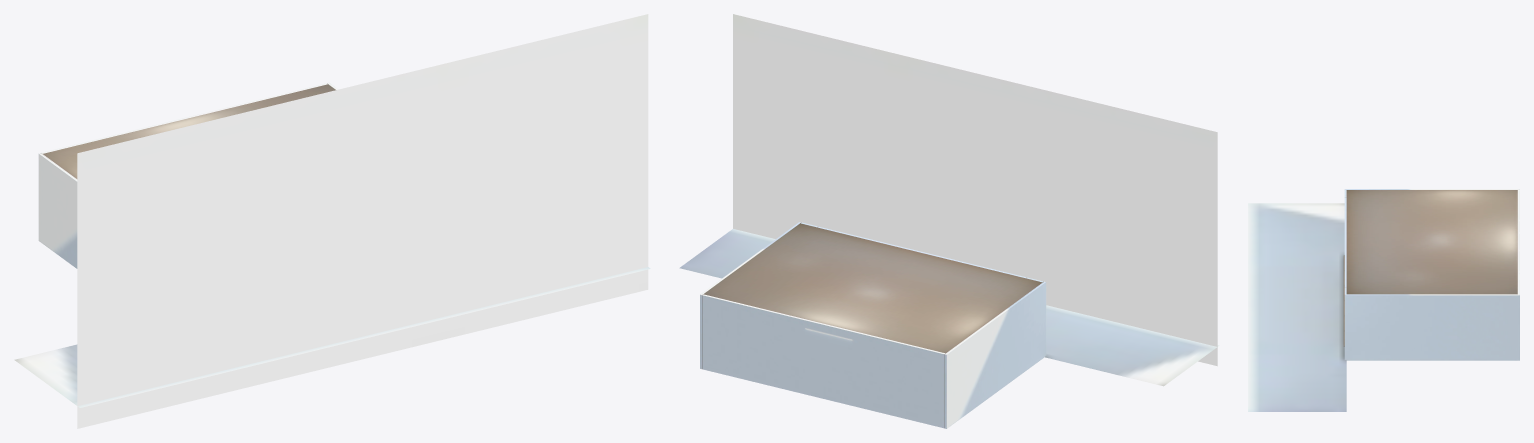
File: cafe.glb
3 renders of one model, left to right at view 1: azimuth 30°, elevation 25°; view 2: azimuth 150°, elevation 25°; view 3: azimuth 270°, elevation 25°, orthographic. The views are drawn at different scales.
Parts seen in each view (by area): view 1: Cafe_Architecture; view 2: Cafe_Architecture; view 3: Cafe_Architecture.
Part boxes in pixels (x1,y1,x2,y2): Cafe_Architecture: [14, 14, 650, 428]; Cafe_Architecture: [679, 14, 1219, 428]; Cafe_Architecture: [1248, 189, 1519, 411].
Bounding box in the file's own units: 26 × 12 × 14.32.
Materials: 10 (5 with a texture image).
